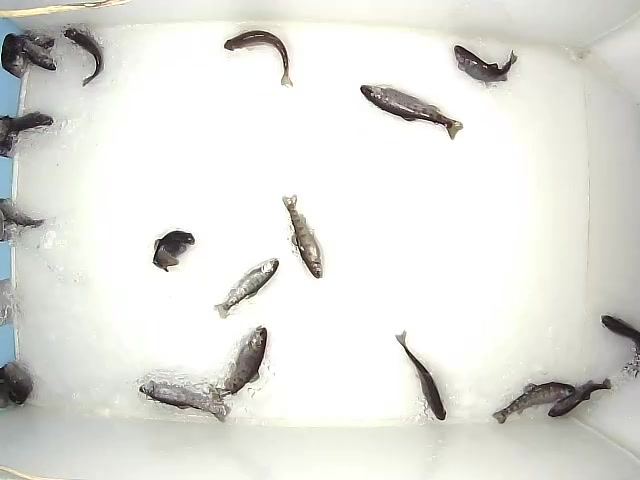fish: (359, 83, 464, 143), (393, 329, 446, 422), (209, 324, 268, 402), (211, 257, 280, 320), (223, 30, 294, 88), (137, 380, 232, 423), (281, 193, 325, 280), (491, 380, 576, 425), (452, 43, 519, 89), (547, 379, 613, 418), (63, 27, 104, 88), (151, 229, 196, 273)
